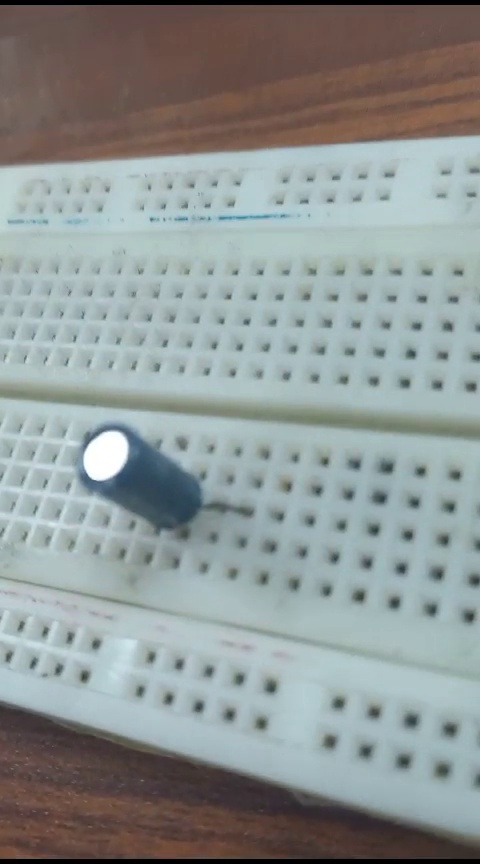capacitor: (62, 416, 220, 535)
